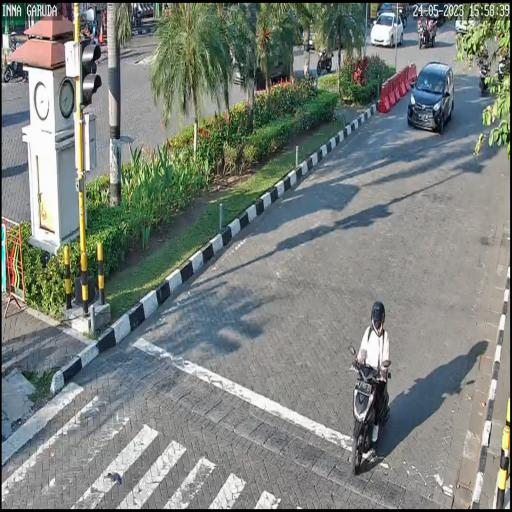mobil: (406, 60, 456, 134)
motor: (346, 345, 392, 472)
